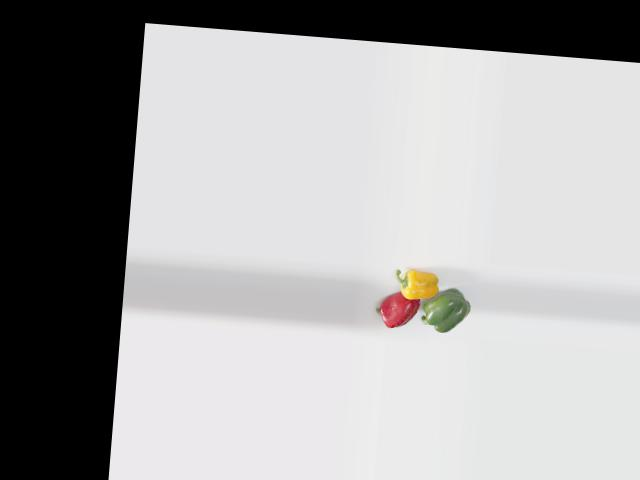bell_pepper: (392, 264, 440, 307)
